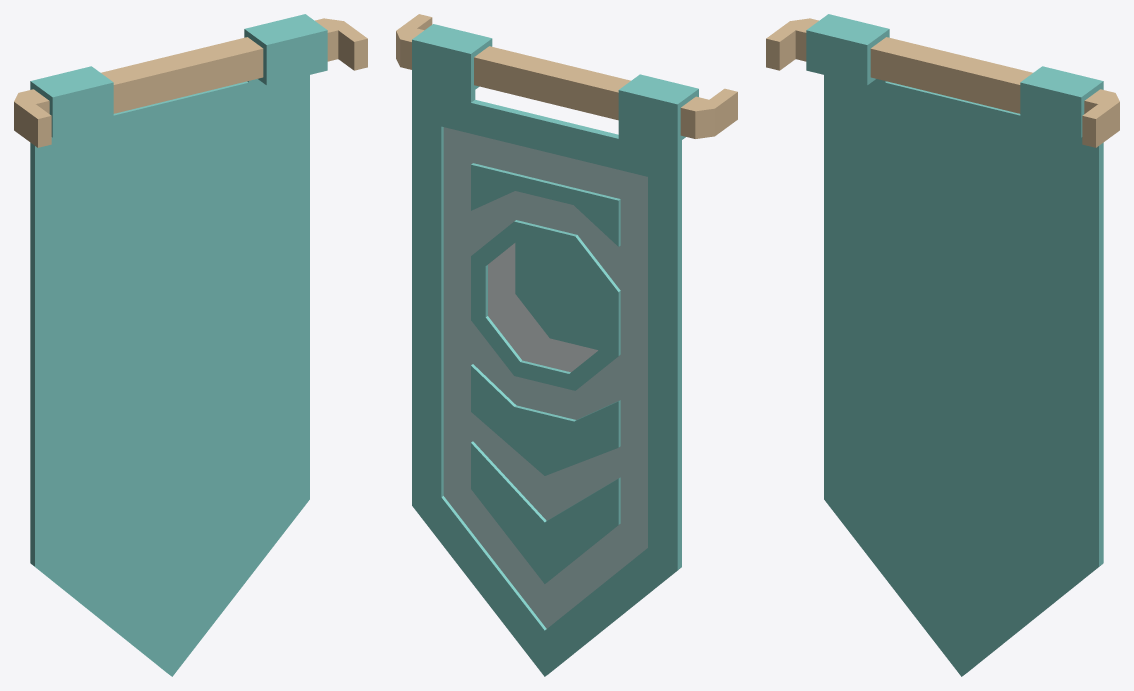
The model's file is Prop_Flag_Moon.glb.
3 renders of one model, left to right at view 1: azimuth 30°, elevation 25°; view 2: azimuth 150°, elevation 25°; view 3: azimuth 330°, elevation 25°, orthographic. The views are drawn at different scales.
Visible parts, largest first — view 1: Prop_Flag_Moon; view 2: Prop_Flag_Moon; view 3: Prop_Flag_Moon.
Part boxes in pixels (bbox=[...]): Prop_Flag_Moon: bbox=[14, 14, 367, 676]; Prop_Flag_Moon: bbox=[396, 14, 737, 676]; Prop_Flag_Moon: bbox=[766, 14, 1119, 676].
Size of the model in its own units: 0.54 by 0.979 by 0.099.
